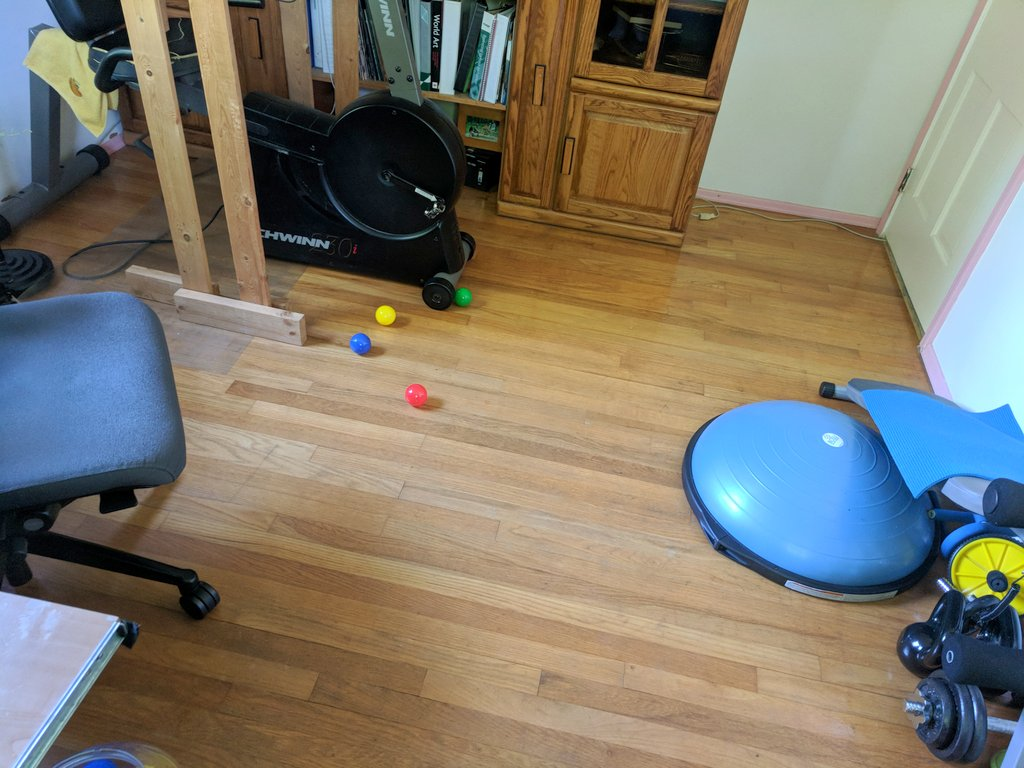ball: (405, 384, 428, 408)
